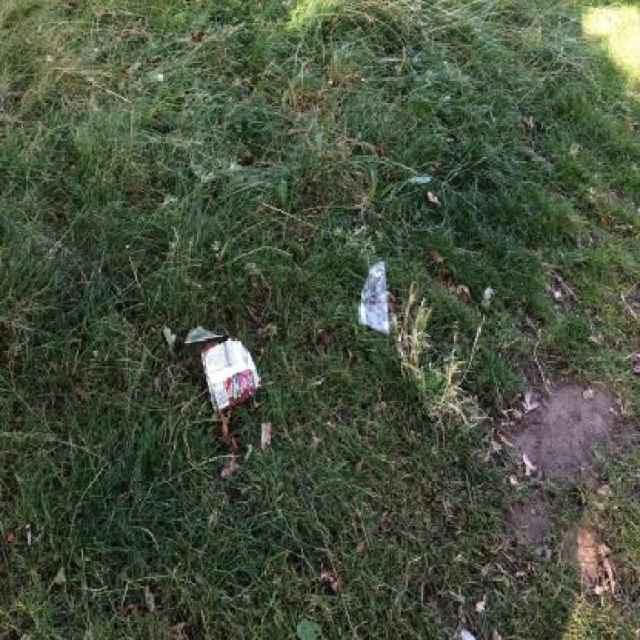plastic: (199, 336, 261, 412), (358, 261, 389, 336)
